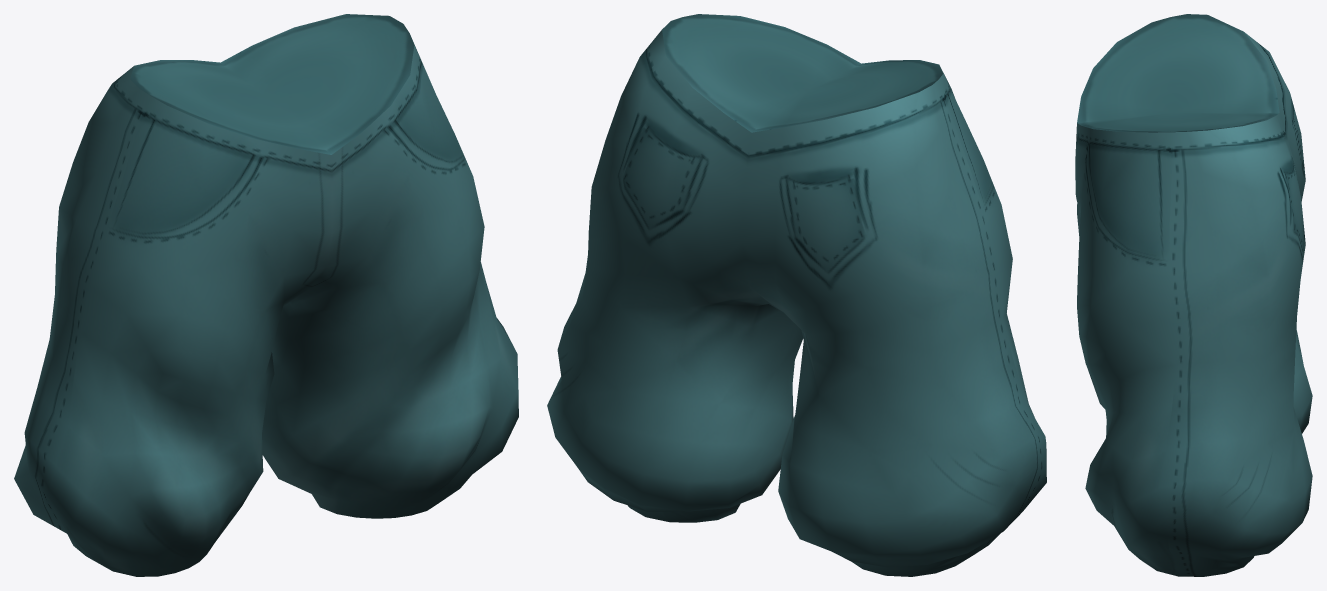
File: pants.glb
The picture shows the model from 3 angles, left to right: view 1: azimuth 30°, elevation 25°; view 2: azimuth 150°, elevation 25°; view 3: azimuth 270°, elevation 25°; orthographic projection. The views are drawn at different scales.
Parts seen in each view (by area): view 1: pants; view 2: pants; view 3: pants.
Boxes of the visible parts, <box> form: pants: <box>14,14,518,576</box>; pants: <box>547,14,1046,576</box>; pants: <box>1075,14,1312,576</box>.
Bounding box in the file's own units: 0.6229 × 0.5918 × 0.2953.
1 material, 1 textured.
